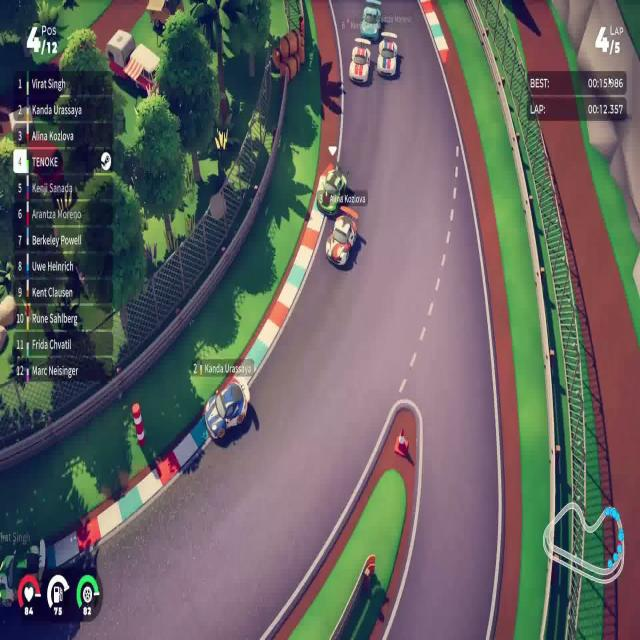car: (203, 373, 250, 442), (325, 212, 357, 268), (316, 161, 347, 217), (348, 42, 371, 84), (376, 35, 398, 78)
